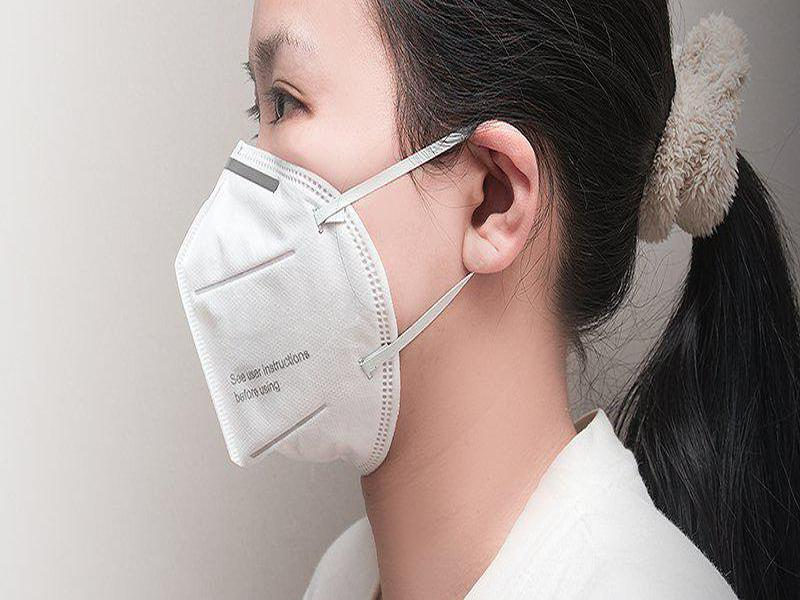with_mask: (171, 1, 643, 477)
